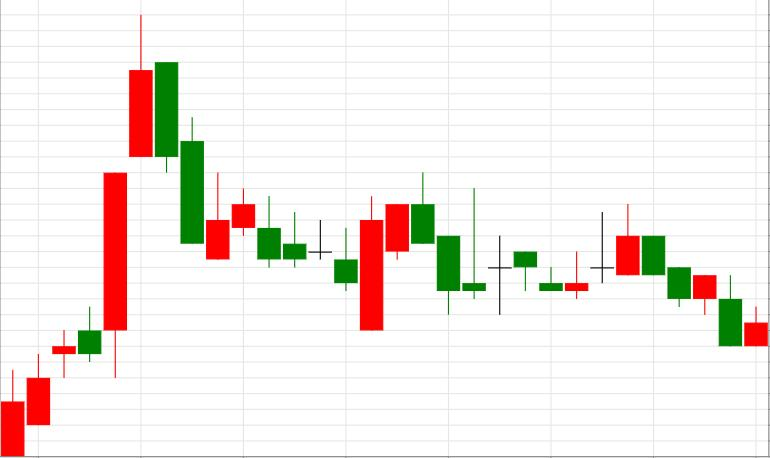bullish_engulfing_rise: (232, 188, 383, 330)
